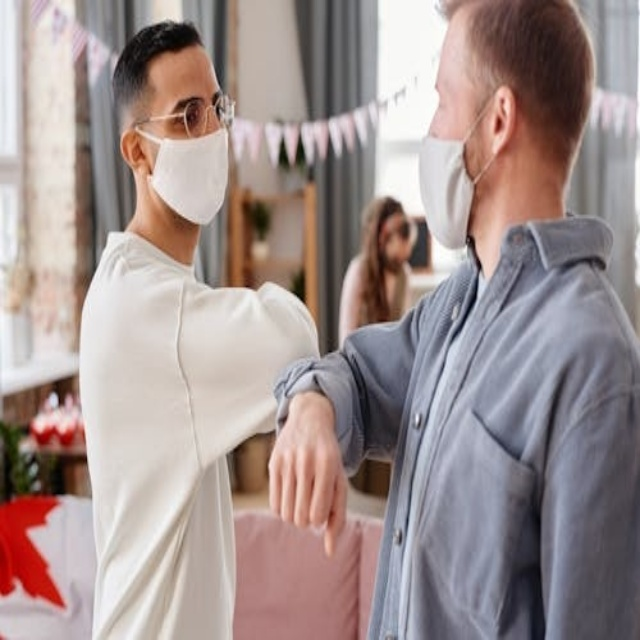Gafas: (120, 84, 238, 138)
Mascara: (411, 105, 504, 255), (137, 130, 230, 224)
Sin_gafas: (421, 67, 470, 128)
Sin_guantes: (266, 394, 348, 557)
